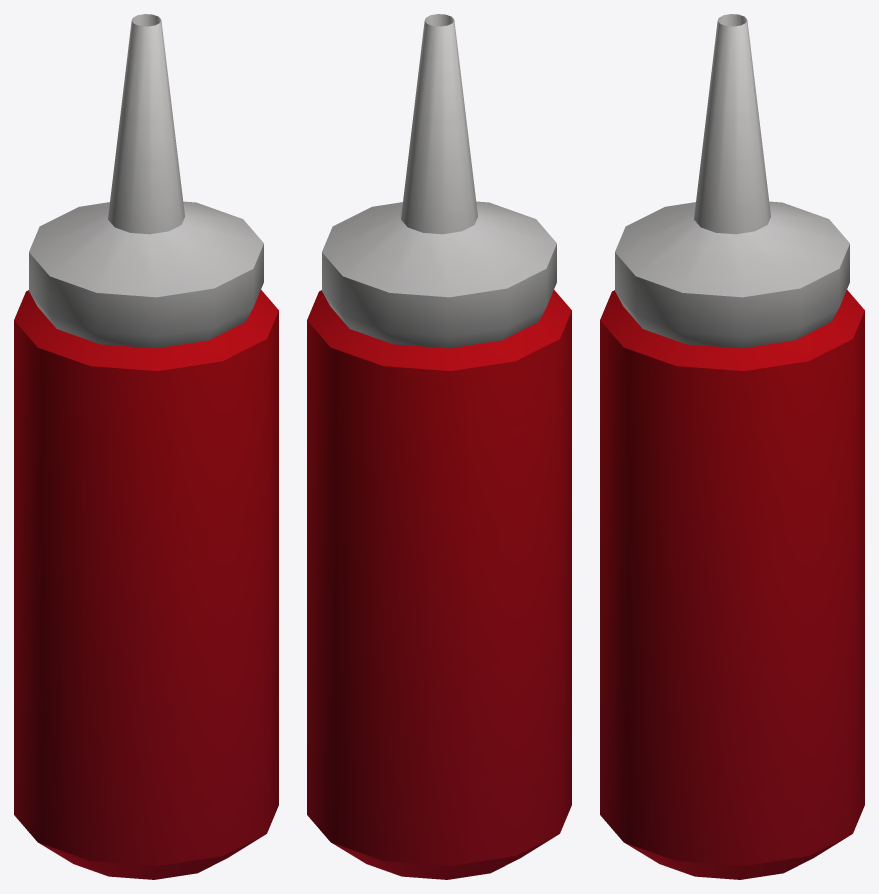
File: KetchupBottle.fbx
3 views of the same model, side by side, from view 1: azimuth 30°, elevation 25°; view 2: azimuth 150°, elevation 25°; view 3: azimuth 270°, elevation 25° (orthographic).
Visible parts, largest first — view 1: KetchupBottle; view 2: KetchupBottle; view 3: KetchupBottle.
Boxes of the visible parts, x1=… form: KetchupBottle: x1=14, y1=14, x2=278, y2=879; KetchupBottle: x1=307, y1=14, x2=571, y2=879; KetchupBottle: x1=600, y1=14, x2=864, y2=879.
Size of the model in its own units: 9.07 by 31.06 by 9.07.
